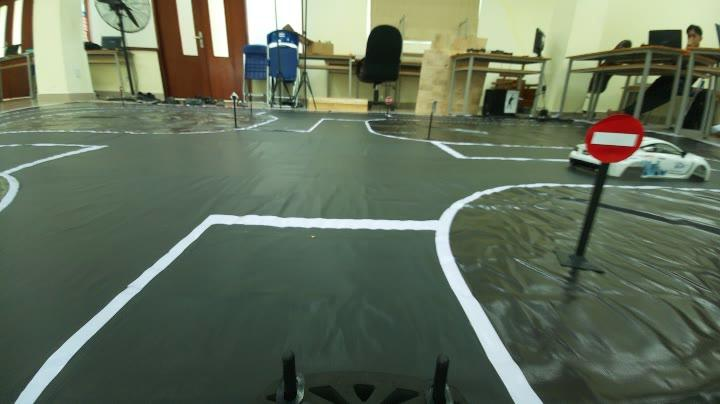no_entry: (582, 106, 646, 175)
